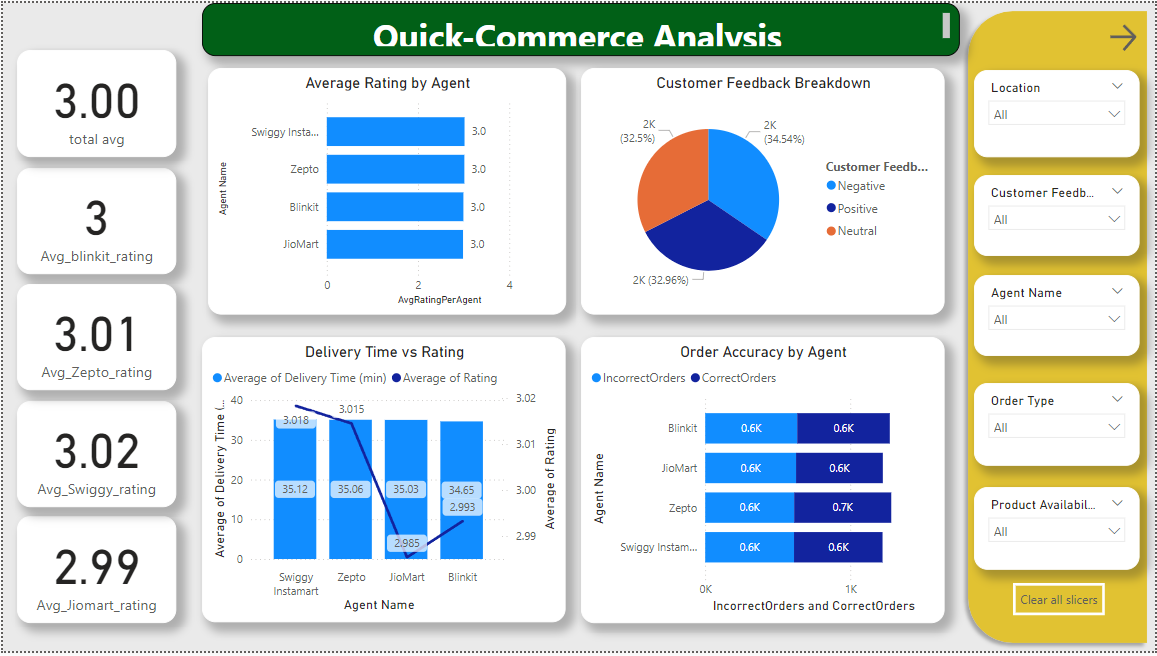

This screenshot's page, from the dashboard's own definition file:
{"tool":"powerbi","page":{"name":"Page 1","canvas":[1280,720],"ordinal":0},"visuals":[{"type":"card","fields":{"Values":["zepto.Avg_blinkit_rating"]},"box":[15.2,183.6,177.3,118.2],"z":1000},{"type":"card","fields":{"Values":["zepto.Avg_Jiomart_rating"]},"box":[15.2,570.4,177.3,119.1],"z":2000},{"type":"card","fields":{"Values":["zepto.Avg_Swiggy_rating"]},"box":[15.2,442.4,177.3,118.2],"z":3000},{"type":"card","fields":{"Values":["zepto.Avg_Zepto_rating"]},"box":[15.2,312.5,177.3,118.2],"z":4000},{"type":"shape","box":[1063,0,216.7,720],"z":5000},{"type":"card","fields":{"Values":["zepto.total avg"]},"box":[15.2,51.9,177.3,119.1],"z":6000},{"type":"slicer","fields":{"Values":["zepto.Location"]},"box":[1079.1,74.3,184.5,96.7],"z":7000},{"type":"slicer","fields":{"Values":["zepto.Customer Feedback Type"]},"box":[1079.1,190.7,184.5,89.6],"z":8000},{"type":"slicer","fields":{"Values":["zepto.Agent Name"]},"box":[1079.1,301.8,184.5,89.6],"z":9000},{"type":"slicer","fields":{"Values":["zepto.Order Type"]},"box":[1079.1,421.8,184.5,92.2],"z":10000},{"type":"slicer","fields":{"Values":["zepto.Product Availability"]},"box":[1079.1,538.2,184.5,92.2],"z":11000},{"type":"textbox","box":[221.2,0,841.8,59.1],"z":12000},{"type":"barChart","title":"Average Rating by Agent","fields":{"Y":["zepto.AvgRatingPerAgent"],"Category":["zepto.Agent Name"]},"box":[227.5,72.5,397.6,274],"z":13000},{"type":"pieChart","title":"Customer Feedback Breakdown","fields":{"Y":["zepto.FeedbackCount"],"Category":["zepto.Customer Feedback Type"]},"box":[642.1,72.5,403.9,274],"z":14000},{"type":"lineStackedColumnComboChart","title":"Delivery Time vs Rating","fields":{"Category":["zepto.Agent Name"],"Y":["Avg(zepto.Delivery Time (min))"],"Y2":["Avg(zepto.Rating)"]},"box":[221.2,371.6,403.9,317],"z":15000},{"type":"barChart","title":"Order Accuracy by Agent","fields":{"Category":["zepto.Agent Name"],"Y":["zepto.IncorrectOrders","zepto.CorrectOrders"]},"box":[642.1,371.6,403.9,317.9],"z":16000},{"type":"actionButton","box":[1224.2,18.8,39.4,40.3],"z":17000},{"type":"actionButton","box":[1122.1,644.8,102.1,35.8],"z":17001}]}

Visuals, with their boxes in screenshot pixels (x1, y1, x2, y2), scaled from the page's 1280x720 canvas onto the 1157x656 screenshot:
card - zepto.Avg_blinkit_rating: 14/167/174/275
card - zepto.Avg_Jiomart_rating: 14/520/174/628
card - zepto.Avg_Swiggy_rating: 14/403/174/511
card - zepto.Avg_Zepto_rating: 14/285/174/392
shape: 961/0/1156/655
card - zepto.total avg: 14/47/174/156
slicer - zepto.Location: 975/68/1142/156
slicer - zepto.Customer Feedback Type: 975/174/1142/255
slicer - zepto.Agent Name: 975/275/1142/357
slicer - zepto.Order Type: 975/384/1142/468
slicer - zepto.Product Availability: 975/490/1142/574
textbox: 200/0/961/54
"Average Rating by Agent" barChart: 206/66/565/316
"Customer Feedback Breakdown" pieChart: 580/66/945/316
"Delivery Time vs Rating" lineStackedColumnComboChart: 200/339/565/627
"Order Accuracy by Agent" barChart: 580/339/945/628
actionButton: 1107/17/1142/54
actionButton: 1014/587/1107/620
